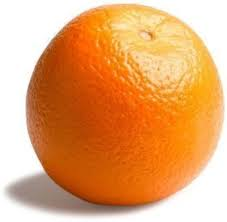orange: (25, 4, 225, 208)
